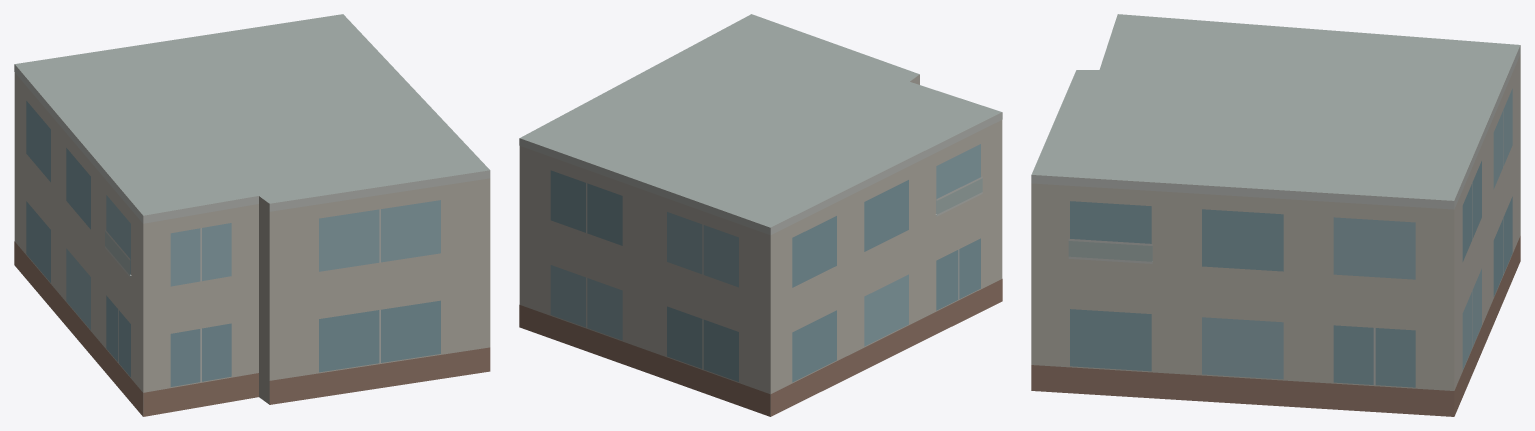
Rendered from survey-upis-33032699.glb.
3 views of the same model, side by side, from view 1: azimuth 30°, elevation 25°; view 2: azimuth 150°, elevation 25°; view 3: azimuth 270°, elevation 25° (orthographic). The views are drawn at different scales.
Visible parts, largest first — view 1: survey-upis-33032699.tmp; view 2: survey-upis-33032699.tmp; view 3: survey-upis-33032699.tmp.
Part boxes in pixels (bbox=[...]): survey-upis-33032699.tmp: bbox=[14, 14, 490, 416]; survey-upis-33032699.tmp: bbox=[519, 14, 1002, 416]; survey-upis-33032699.tmp: bbox=[1031, 14, 1520, 416].
Bounding box in the file's own units: 11.33 × 6.1 × 12.53.
